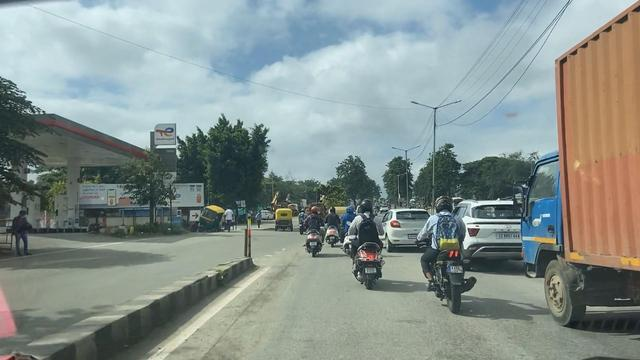LMV: (431, 193, 462, 313), (355, 203, 380, 289), (301, 206, 326, 260)
